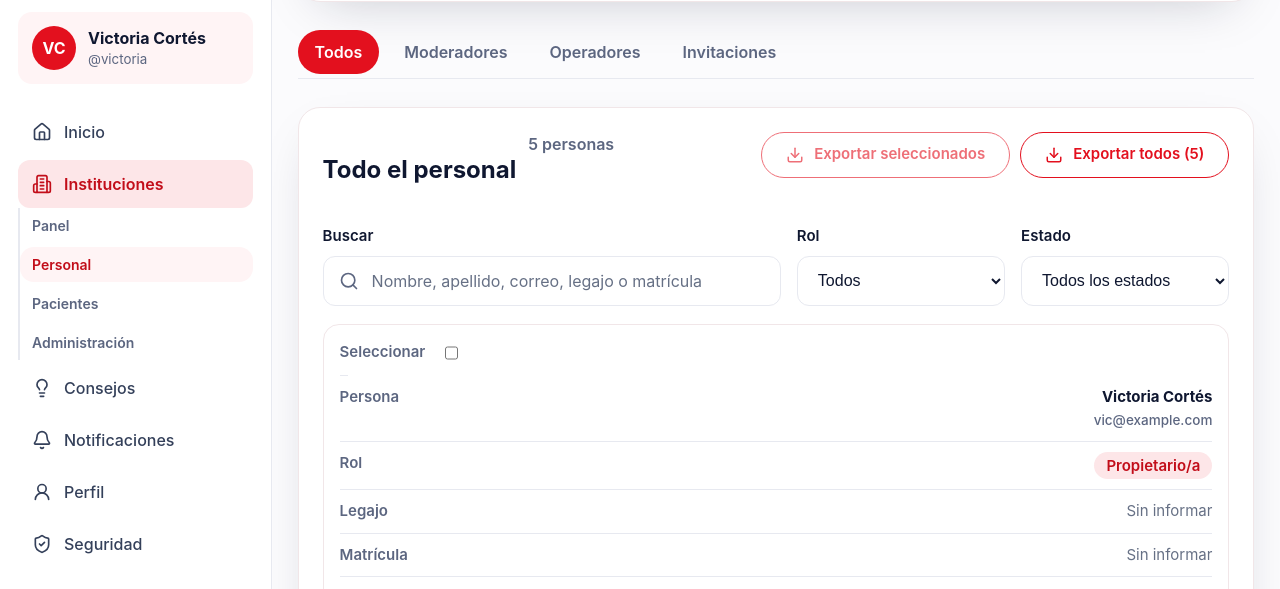
Test: Personal: vista general › el personal dado de baja se ve con el filtro de estado
(page scrolled)
Select "Dado de baja" in the dropdown labelled "Estado": x=1125, y=281 x1=1021 y1=256 x2=1229 y2=306
(page scrolled)
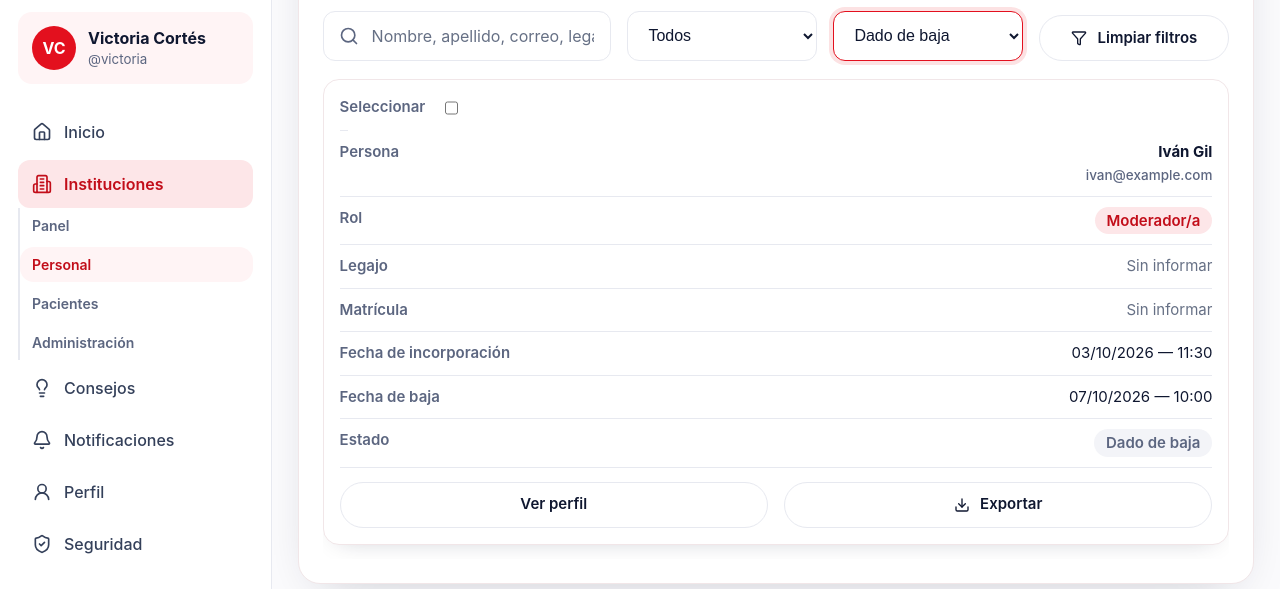
expect the table shows "Iván Gil": met, box x1=1158 y1=142 x2=1212 y2=161
expect the table no longer shows "Pablo Ríos": met, box x1=323 y1=79 x2=1229 y2=545
